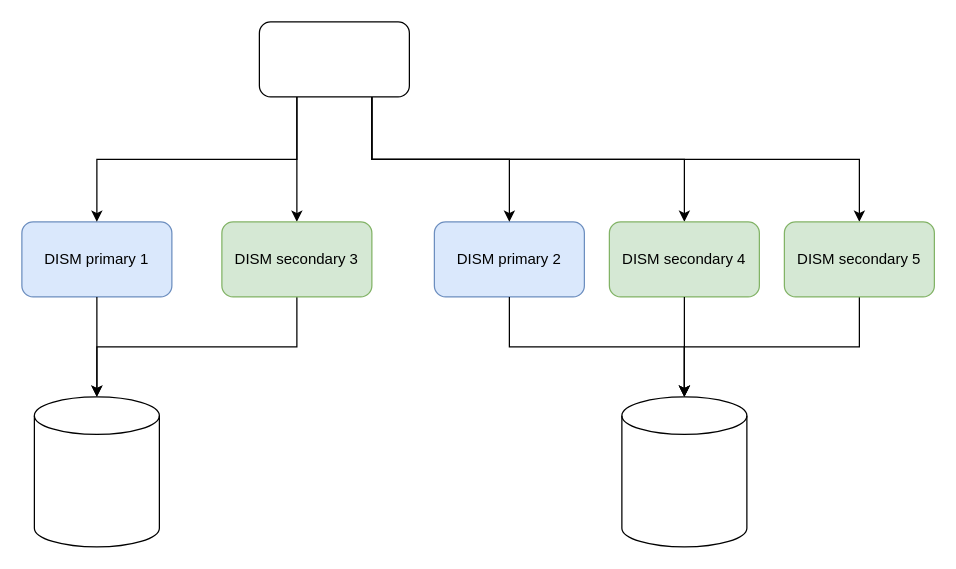
The diagram is 956 pixels wide and 569 high, and some of its shapes have lost their labels. Each missing label, with the box of its shape:
Data index 1 Loc 1: (33, 396, 159, 547)
Data index 1 Loc 2: (621, 396, 747, 547)
ISM: (258, 21, 409, 97)
